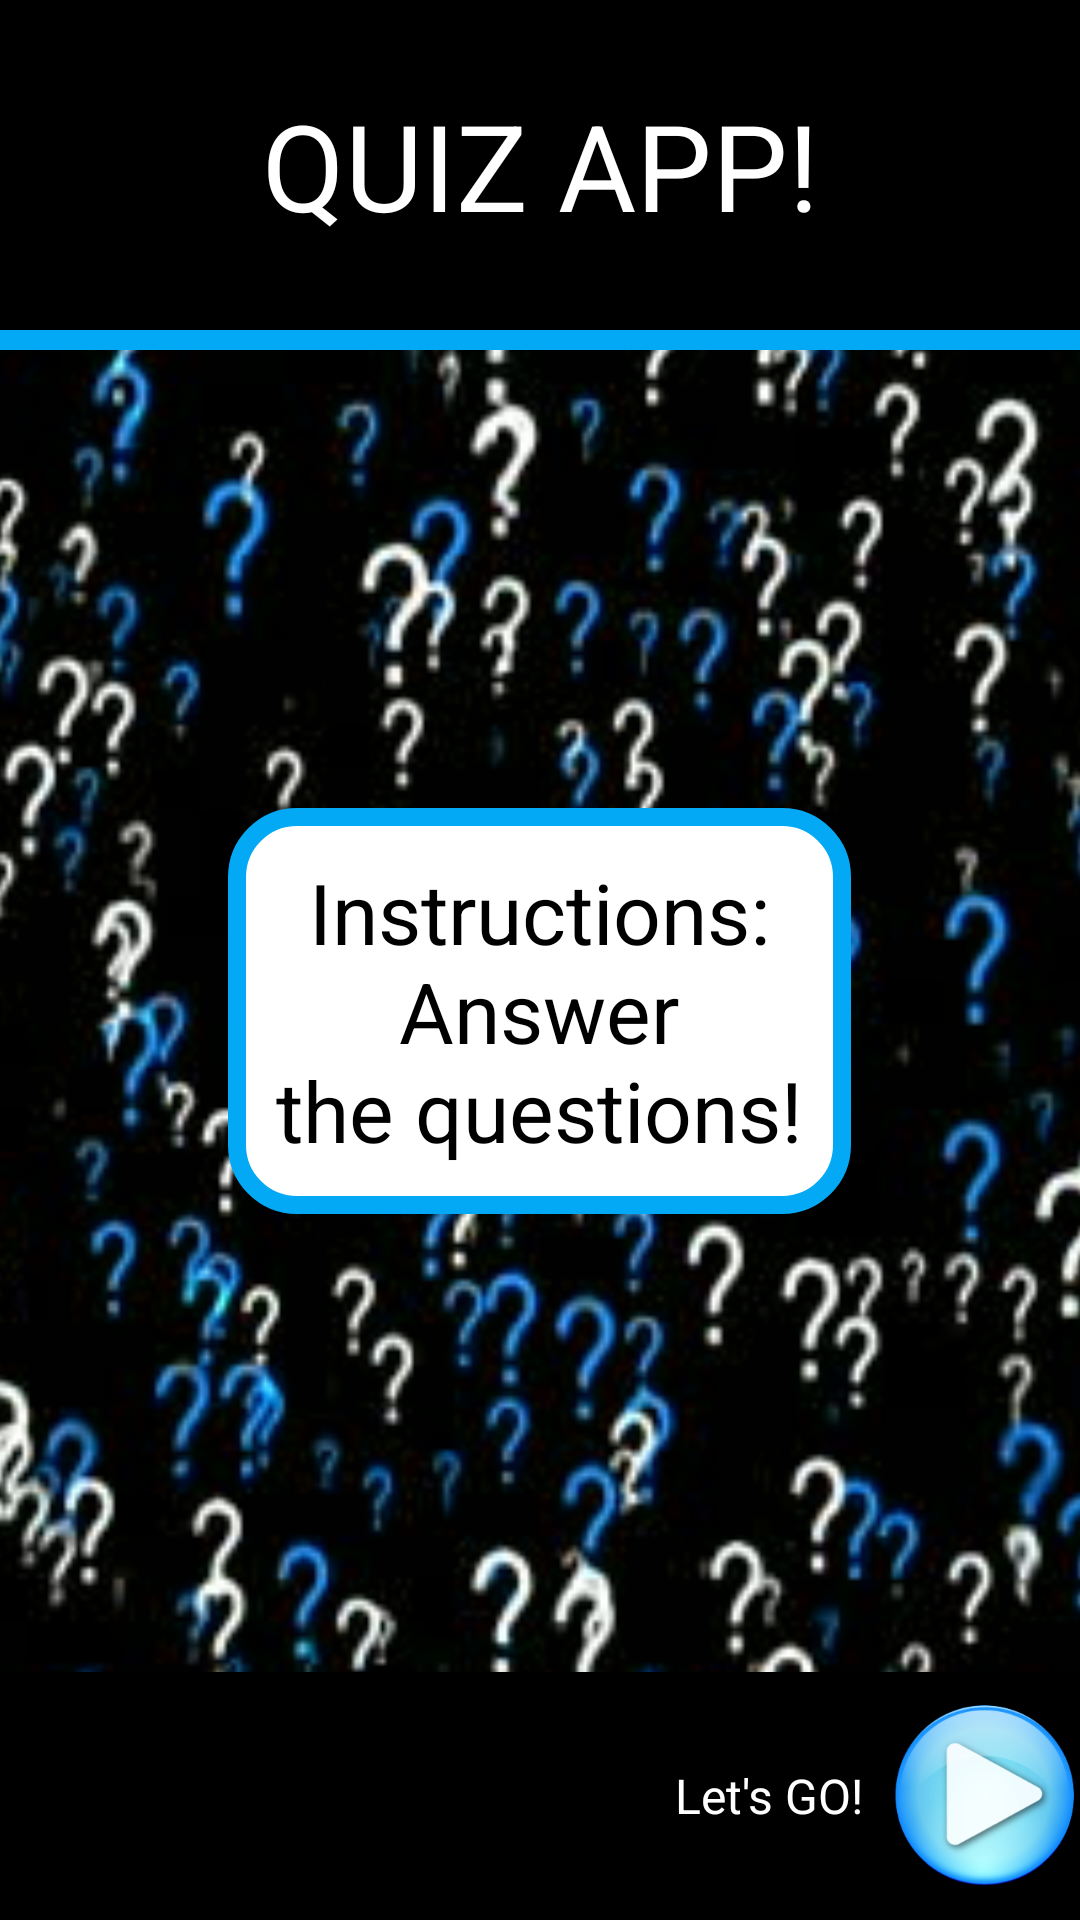

Where icons sit on this 1080px x 1920px app screen, as (x1, y1, x2, y2):
next: (895, 1705, 1074, 1885)
